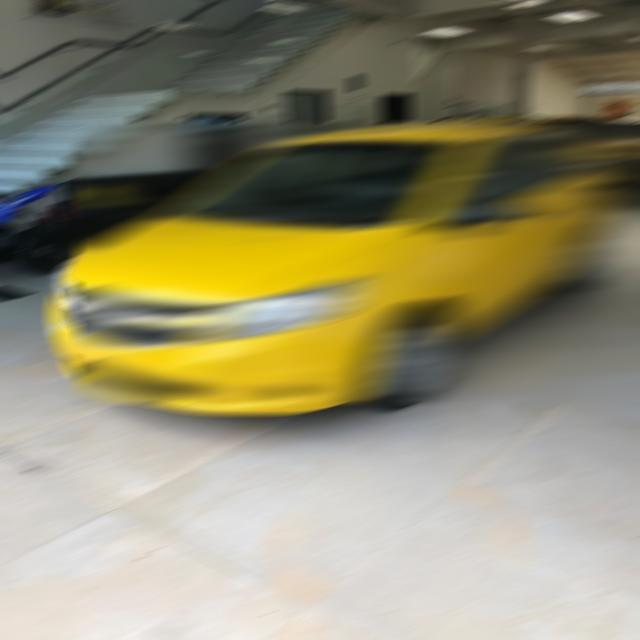Taxi: (74, 122, 640, 402)
